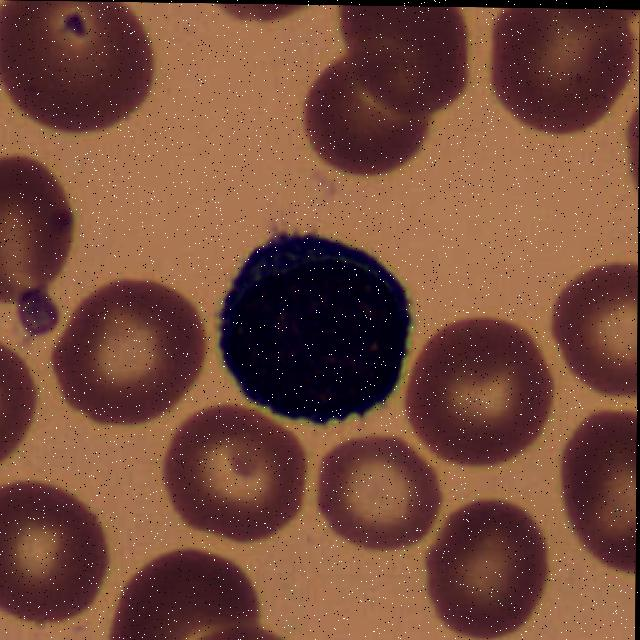lymphocyte: (220, 221, 409, 420)
platelets: (14, 284, 67, 348)
rbc: (398, 316, 560, 467), (51, 280, 205, 429), (488, 11, 634, 154), (0, 2, 156, 134), (165, 408, 310, 545), (302, 423, 449, 556), (420, 490, 541, 636), (0, 484, 109, 629), (332, 5, 464, 124), (299, 58, 427, 179), (106, 544, 259, 640), (559, 411, 635, 580), (553, 253, 636, 393), (0, 153, 76, 305), (0, 332, 39, 464), (170, 609, 305, 640), (207, 3, 324, 35), (618, 98, 639, 196), (321, 5, 324, 11)
